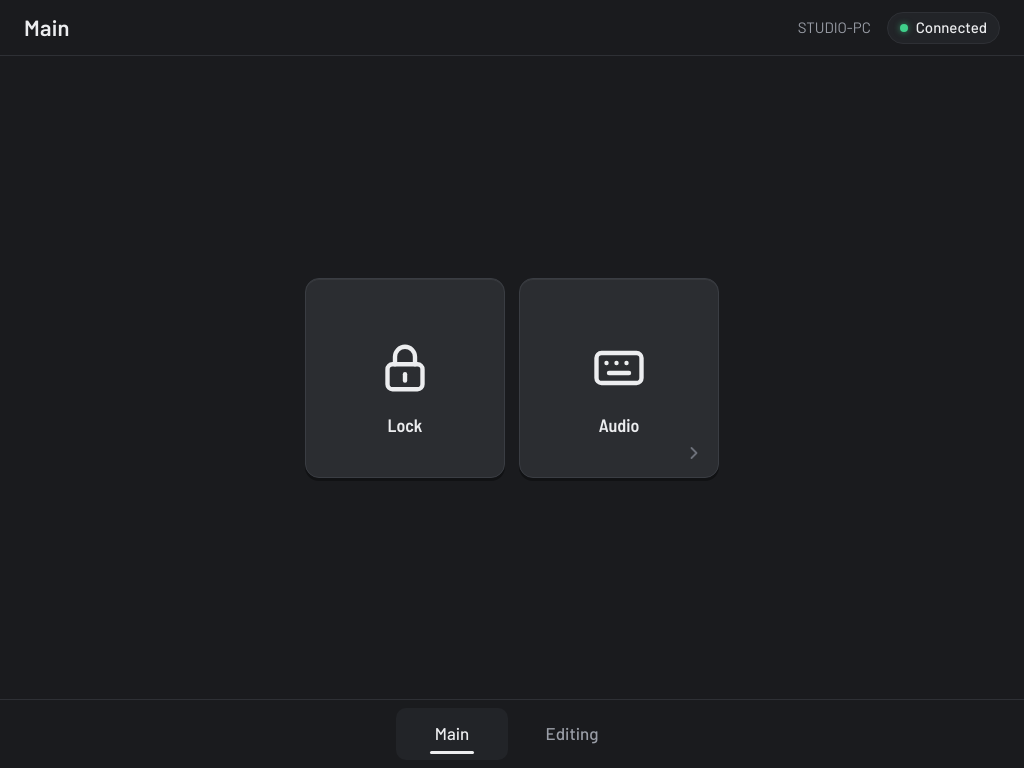
Scenario: Folders on the dashboard › opens a folder locally, shows a generated Back key, and returns
Expected: the button "Vol +" is not shown
Click the button with aria-label "Audio, folder" at [619, 378], box [519,278,719,478]
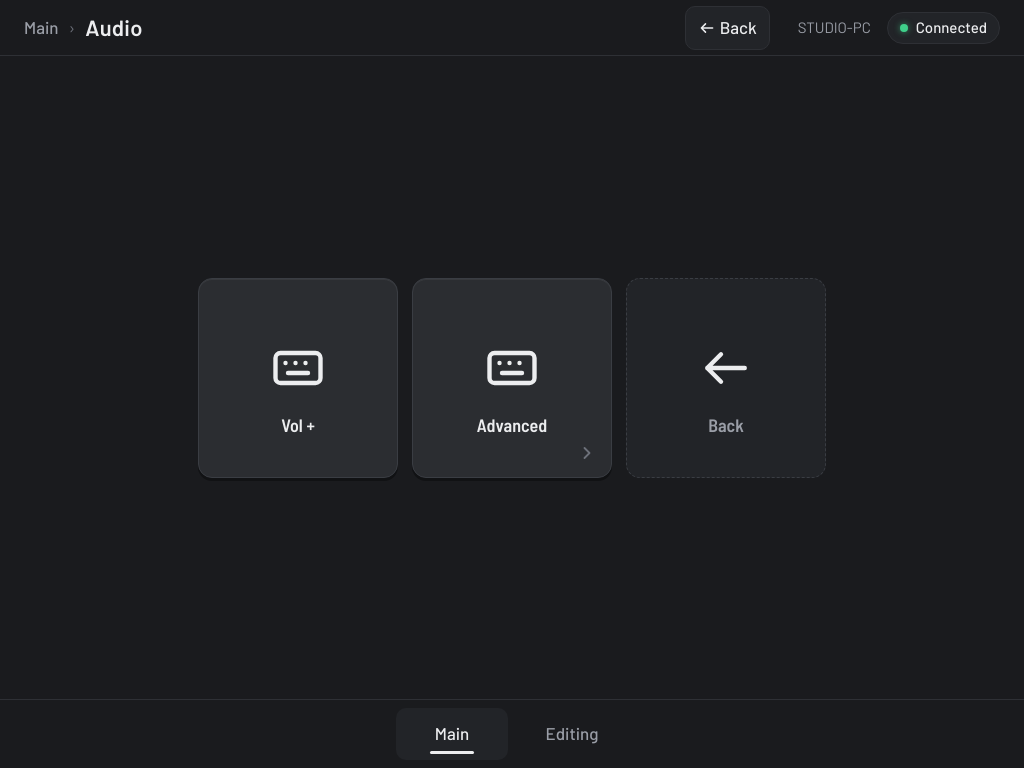
Now the button "Vol +" is shown, box [198,278,398,478]
Now the button "Lock" is gone
Click the 3rd button with class "deck-key" at [726, 378], box [626,278,826,478]
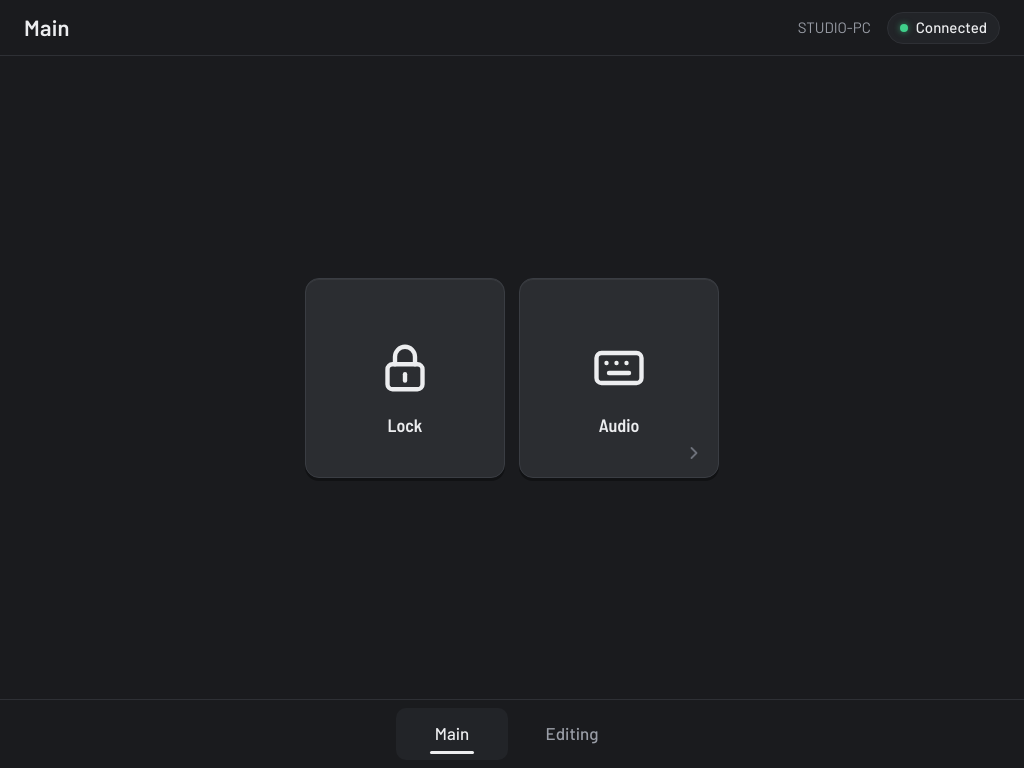
Now the heading "Main" is shown, box [24,12,70,43]
Now the button "Lock" is shown, box [305,278,505,478]
Now the button with class "deck-key--back" is gone
